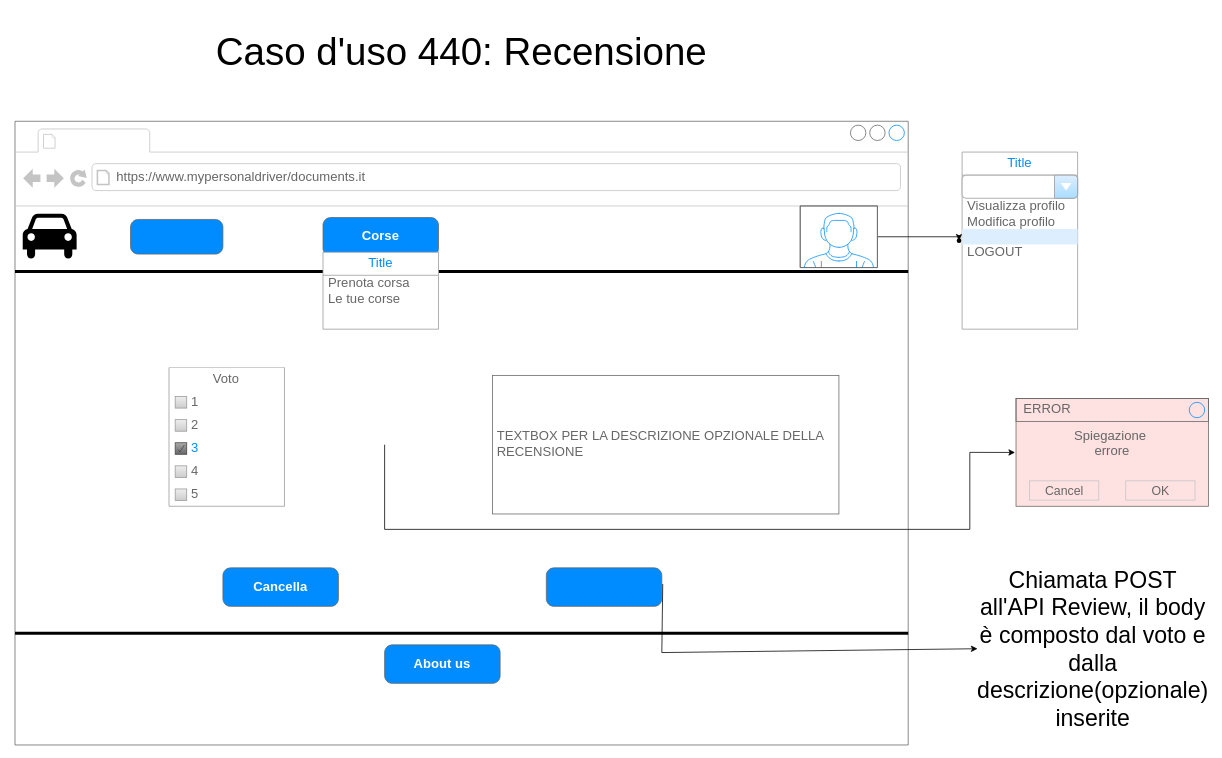
Some shapes in this 1222 by 758 pixel diagram are drawn without their labels. The shapes that lost their labels are listed below. From the top down, each one's centre as x and y in pixels, then its label:
At (103,140): "Page 1".
At (1019,186): "dropdown".
At (176,236): "Home".
At (604,586): "Conferma".
